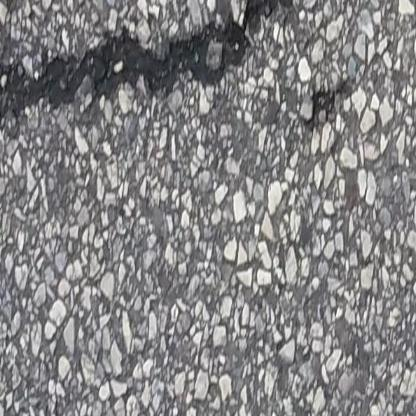Cracks: (0, 0, 317, 116)
